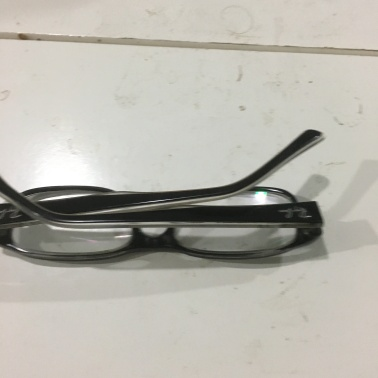glasses: (3, 168, 324, 266)
